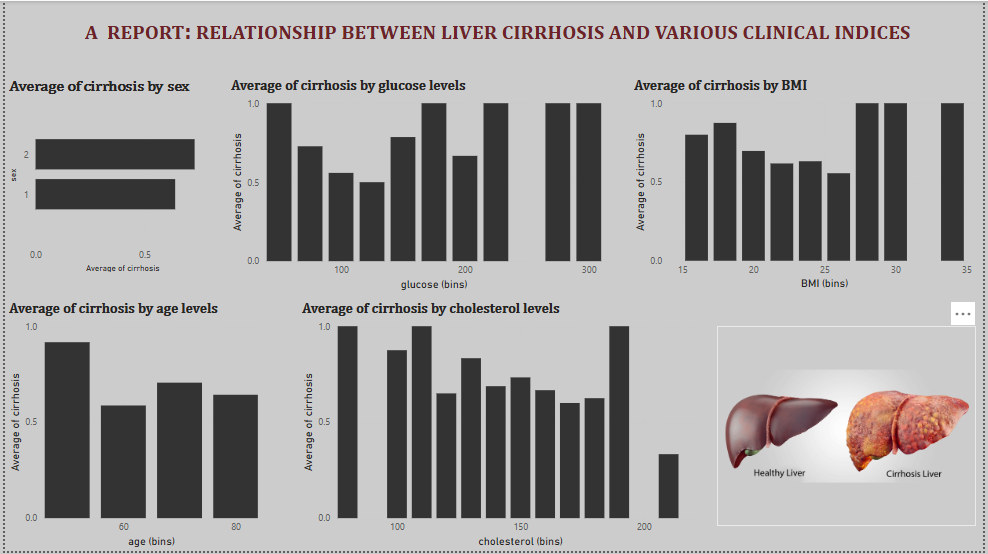

The dashboard page shown, as its layout file describes it:
{"tool":"powerbi","page":{"name":"Page 1","canvas":[1280,720],"ordinal":0},"visuals":[{"type":"barChart","fields":{"Category":["hepatitis_C_EHRs_Japan xlsx.sex"],"Y":["Avg(hepatitis_C_EHRs_Japan xlsx.cirrhosis)"]},"box":[0,100.8,281.5,259.2],"z":0},{"type":"clusteredColumnChart","title":"Average of cirrhosis by age levels","fields":{"Category":["hepatitis_C_EHRs_Japan xlsx.age (bins)"],"Y":["Avg(hepatitis_C_EHRs_Japan xlsx.cirrhosis)"]},"box":[0,392.7,336.4,327.3],"z":1000},{"type":"clusteredColumnChart","title":"Average of cirrhosis by cholesterol levels","fields":{"Category":["hepatitis_C_EHRs_Japan xlsx.cholesterol (bins)"],"Y":["Avg(hepatitis_C_EHRs_Japan xlsx.cirrhosis)"]},"box":[383.6,392.7,535.4,327.3],"z":2000},{"type":"clusteredColumnChart","title":"Average of cirrhosis by BMI ","fields":{"Category":["hepatitis_C_EHRs_Japan xlsx.BMI (bins)"],"Y":["Avg(hepatitis_C_EHRs_Japan xlsx.cirrhosis)"]},"box":[817.9,100.8,462.2,282.2],"z":3000},{"type":"clusteredColumnChart","title":"Average of cirrhosis by glucose levels","fields":{"Category":["hepatitis_C_EHRs_Japan xlsx.glucose (bins)"],"Y":["Avg(hepatitis_C_EHRs_Japan xlsx.cirrhosis)"]},"box":[290.6,100.8,494.8,282.8],"z":4000},{"type":"image","box":[932.1,425.5,339.1,261.8],"z":5000},{"type":"textbox","box":[99.4,14.4,1094.4,64.8],"z":6000}]}

Visuals, with their boxes in screenshot pixels (x1, y1, x2, y2), scaled from the page's 1280x720 canvas onto the 988x554 screenshot:
barChart - hepatitis_C_EHRs_Japan xlsx.sex x Avg(hepatitis_C_EHRs_Japan xlsx.cirrhosis): select_region(0, 78, 217, 277)
"Average of cirrhosis by age levels" clusteredColumnChart: select_region(0, 302, 260, 553)
"Average of cirrhosis by cholesterol levels" clusteredColumnChart: select_region(296, 302, 709, 553)
"Average of cirrhosis by BMI " clusteredColumnChart: select_region(631, 78, 987, 295)
"Average of cirrhosis by glucose levels" clusteredColumnChart: select_region(224, 78, 606, 295)
image: select_region(719, 327, 981, 529)
textbox: select_region(77, 11, 921, 61)
